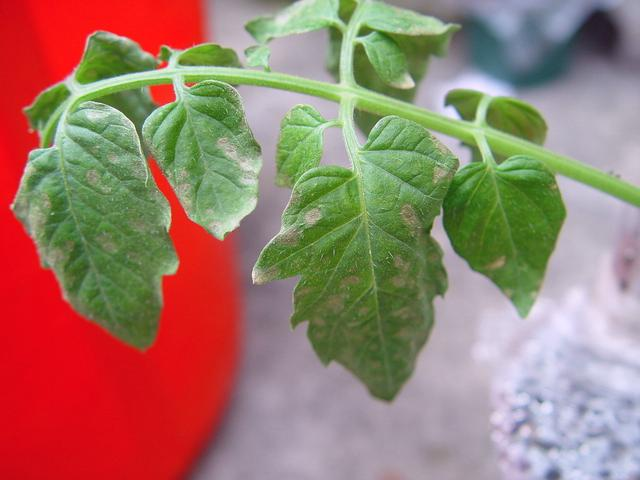Tomato mold leaf: (254, 121, 469, 416), (7, 103, 187, 357), (437, 158, 573, 321), (142, 82, 263, 247)
